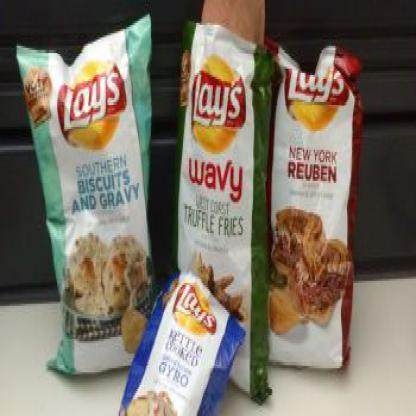potatochip: (13, 9, 166, 379), (173, 14, 278, 410), (258, 27, 368, 382), (113, 264, 250, 414)
